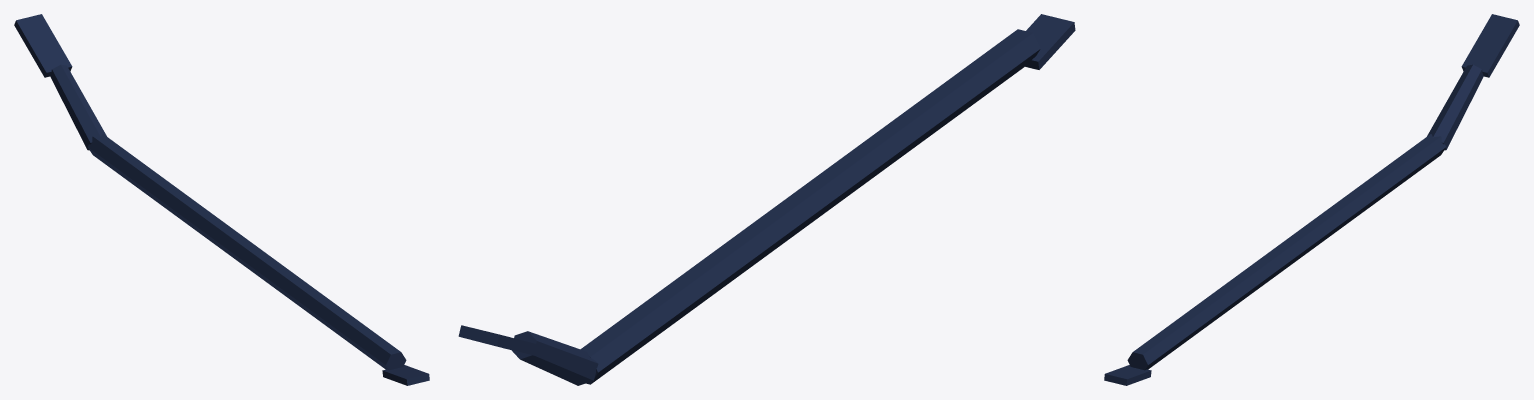
The model's file is w_crowbar.glb.
3 views of the same model, side by side, from view 1: azimuth 30°, elevation 25°; view 2: azimuth 150°, elevation 25°; view 3: azimuth 330°, elevation 25° (orthographic). The views are drawn at different scales.
Visible parts, largest first — view 1: w_crowbar; view 2: w_crowbar; view 3: w_crowbar.
Boxes of the visible parts, left/top/right/bottom form: w_crowbar: left=14, top=14, right=429, bottom=385; w_crowbar: left=458, top=14, right=1075, bottom=385; w_crowbar: left=1104, top=14, right=1519, bottom=385.
Bounding box in the file's own units: 0.03 × 0.0997 × 0.7878.
